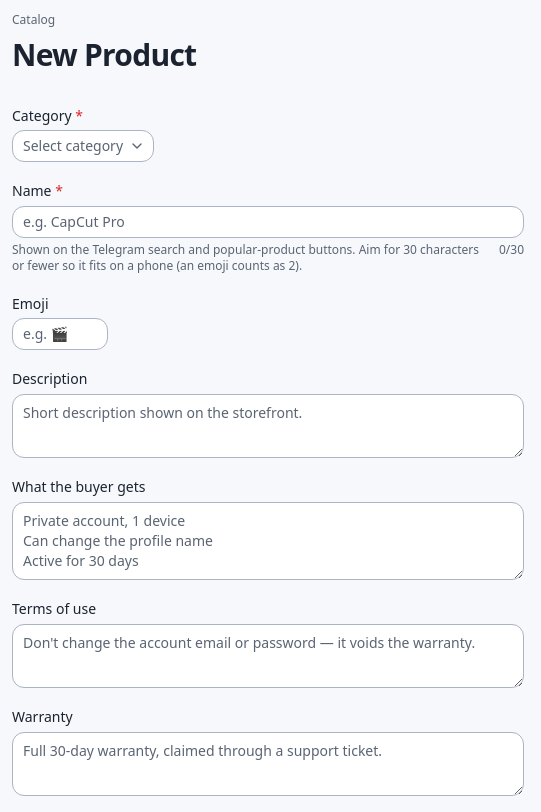
ProductCreatePage › sets switched-off categories apart so a new product isn't filed into a dead shelf
The width and height of the screenshot is (541, 812).
Check: the field with placeholder "e.g. CapCut Pro" is shown, box [12,206,524,238]
Click the dropdown.
click(83, 146)  # box [12,130,154,162]
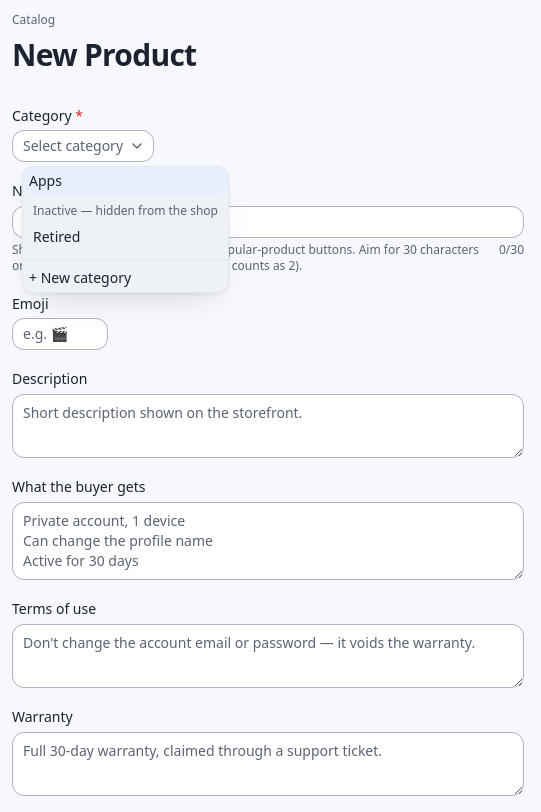
Check: the text "Inactive — hidden from the shop" is shown, box [27,199,224,223]
Check: the option "Retired" is shown, box [33,227,80,246]
